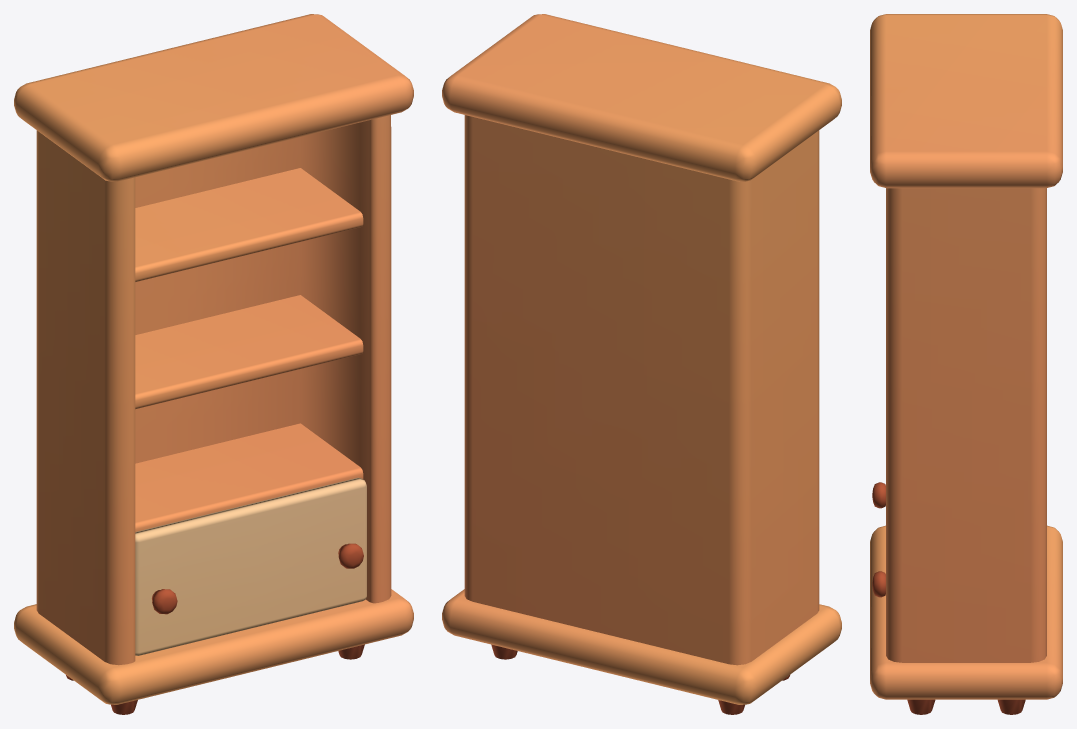
File: Closet_01.fbx
3 views of the same model, side by side, from view 1: azimuth 30°, elevation 25°; view 2: azimuth 150°, elevation 25°; view 3: azimuth 270°, elevation 25° (orthographic). The views are drawn at different scales.
Parts seen in each view (by area): view 1: Closet_01, Closet_01_Door; view 2: Closet_01; view 3: Closet_01, Closet_01_Door.
Boxes of the visible parts, x1=… form: Closet_01: x1=14, y1=14, x2=413, y2=714; Closet_01_Door: x1=135, y1=477, x2=366, y2=655; Closet_01: x1=442, y1=14, x2=841, y2=714; Closet_01: x1=870, y1=14, x2=1062, y2=714; Closet_01_Door: x1=872, y1=482, x2=885, y2=597.
Bounding box in the file's own units: 0.88 × 1.58 × 0.48.
